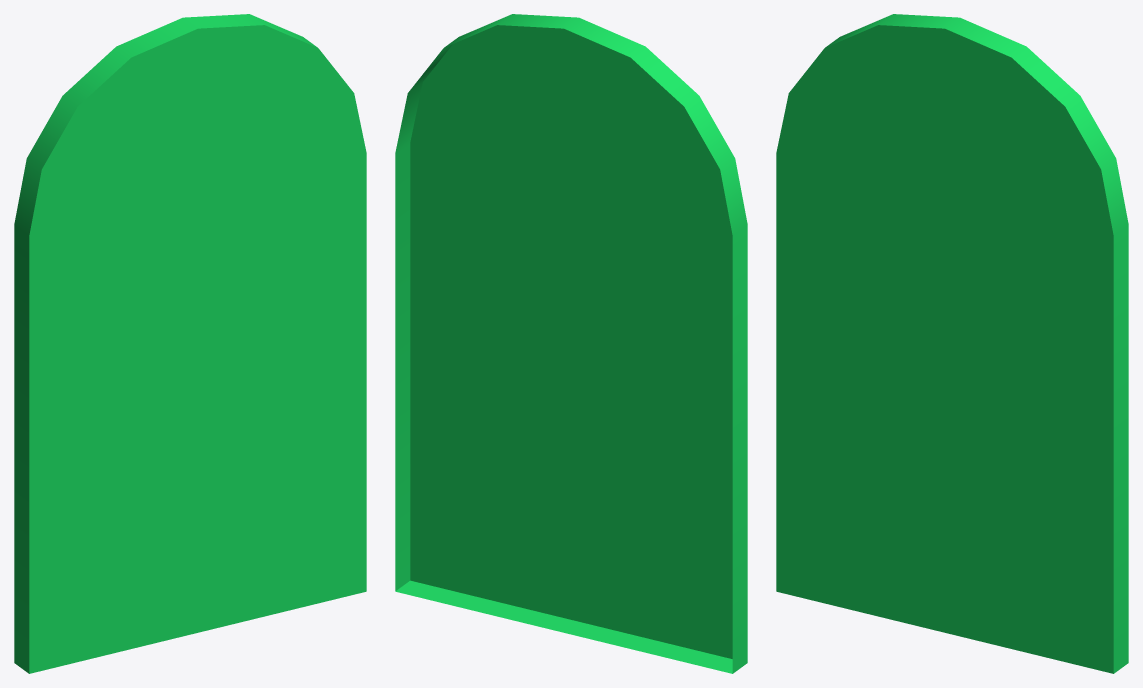
File: SM_wall_window_mini.fbx
3 renders of one model, left to right at view 1: azimuth 30°, elevation 25°; view 2: azimuth 150°, elevation 25°; view 3: azimuth 330°, elevation 25°, orthographic.
Visible parts, largest first — view 1: wall_top_win_low.001; view 2: wall_top_win_low.001; view 3: wall_top_win_low.001.
Boxes of the visible parts, box(x1,y1,x2,y2) form: wall_top_win_low.001: box(14, 14, 366, 673); wall_top_win_low.001: box(395, 14, 747, 673); wall_top_win_low.001: box(776, 14, 1128, 673).
Bounding box in the file's own units: 129 × 221 × 10.
